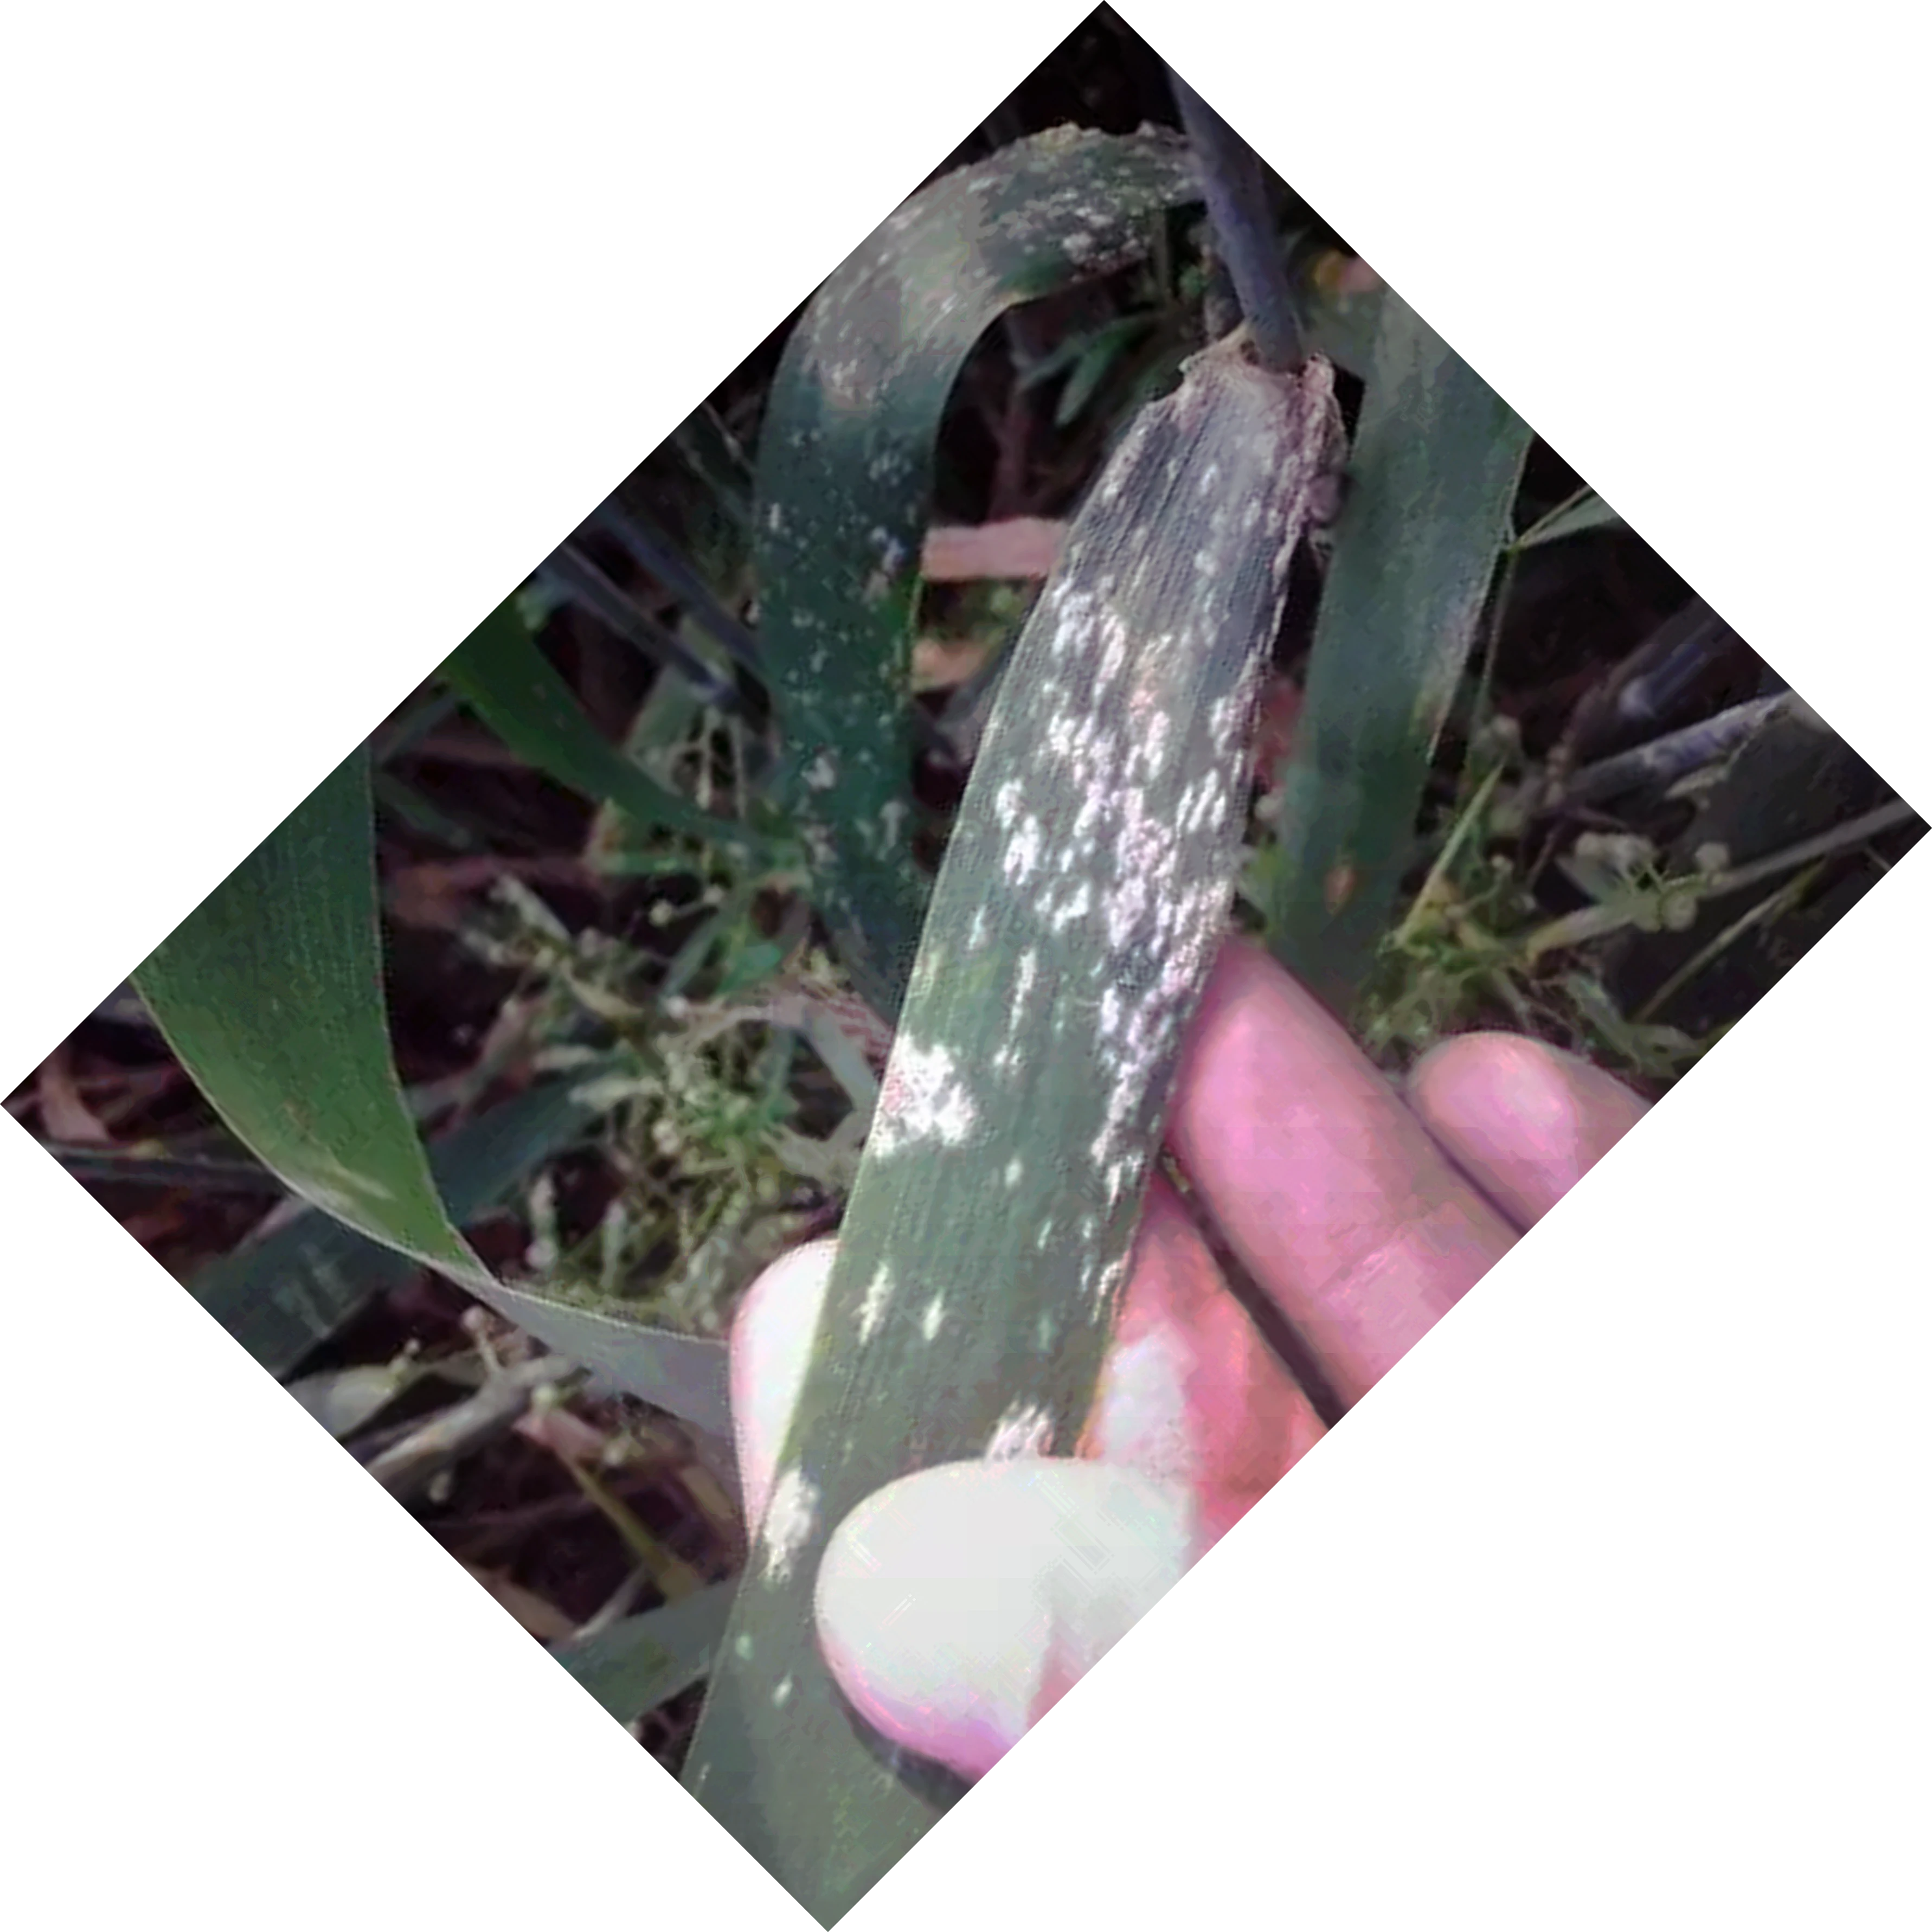Powdery Mildew: (832, 467, 1283, 1467)
